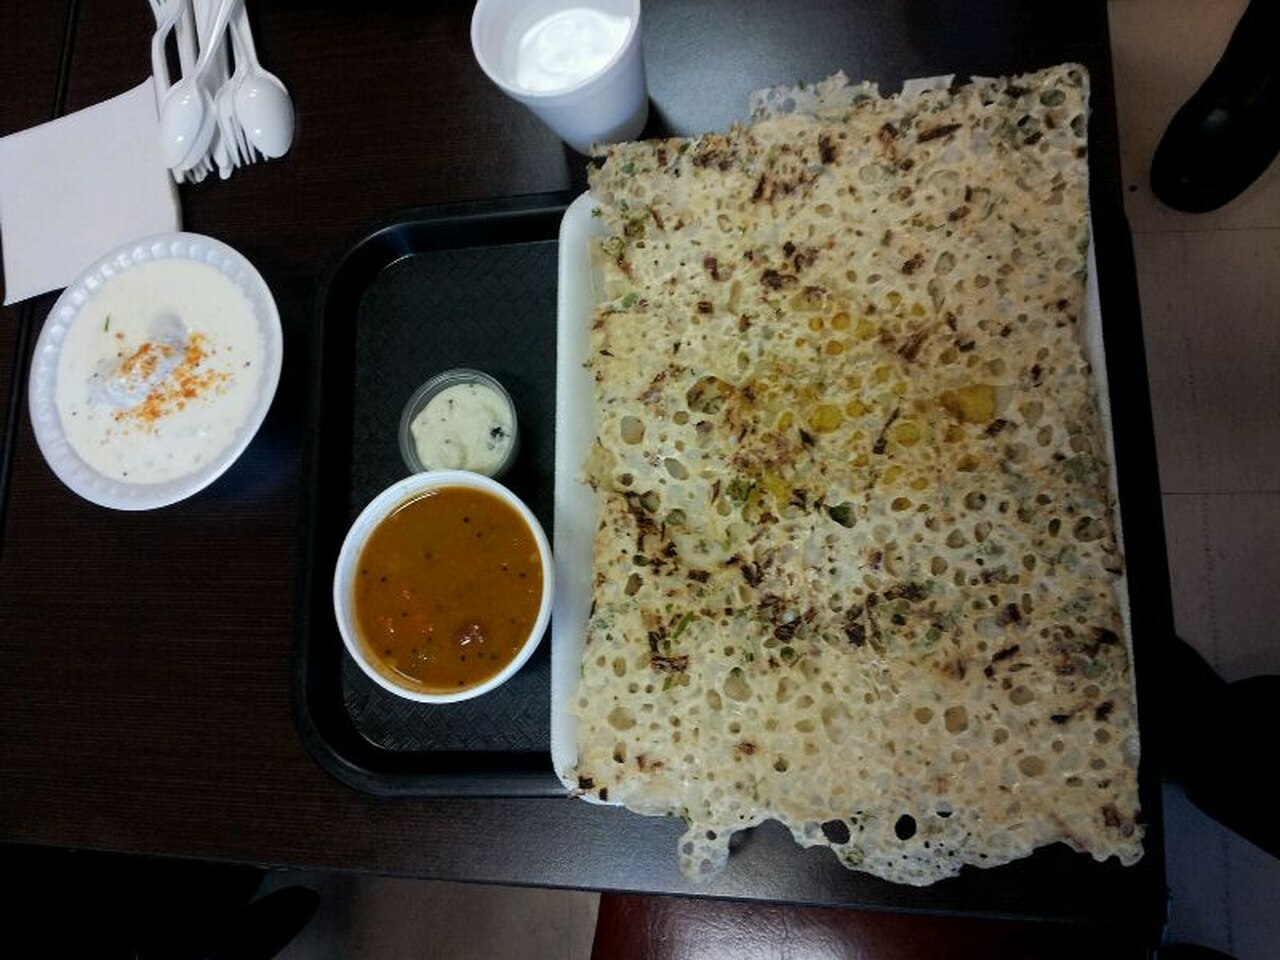dosa: (568, 62, 1127, 879)
